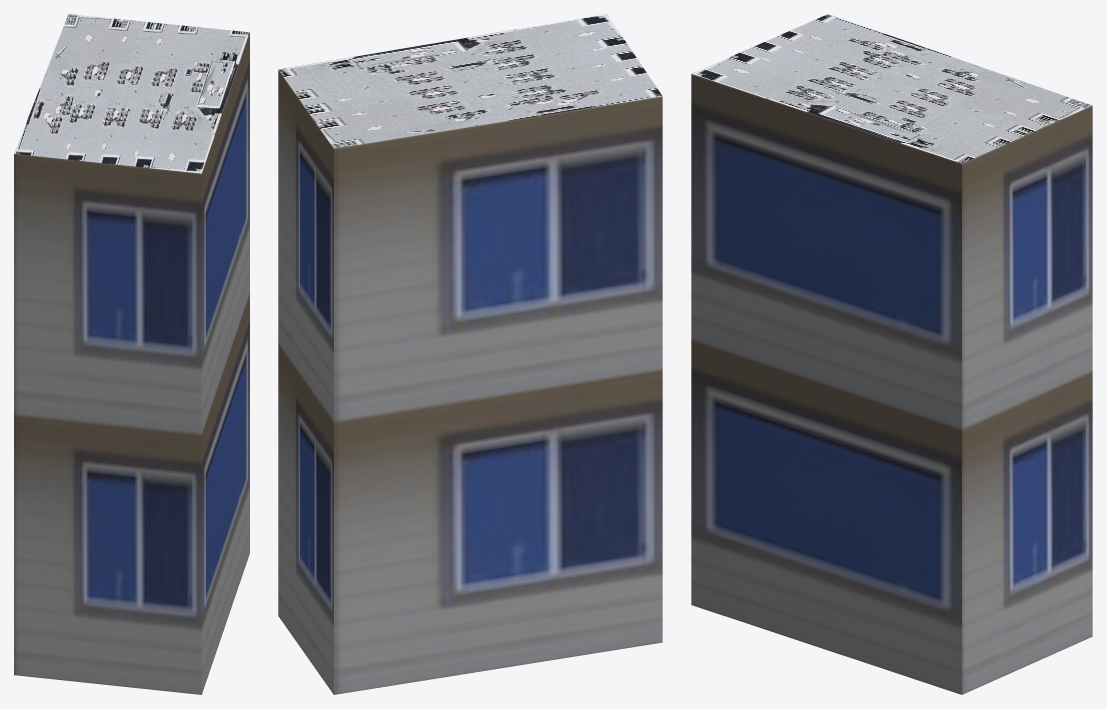
The model's file is ResTex__4826.fbx.
The picture shows the model from 3 angles, left to right: view 1: azimuth 30°, elevation 25°; view 2: azimuth 150°, elevation 25°; view 3: azimuth 270°, elevation 25°; orthographic projection. The views are drawn at different scales.
Visible parts, largest first — view 1: CityEngineMaterial_23_m, CityEngineMaterial_8_m; view 2: CityEngineMaterial_23_m, CityEngineMaterial_8_m; view 3: CityEngineMaterial_23_m, CityEngineMaterial_8_m.
Boxes of the visible parts, bbox=[...] form: CityEngineMaterial_23_m: bbox=[14, 32, 249, 694]; CityEngineMaterial_8_m: bbox=[14, 14, 249, 173]; CityEngineMaterial_23_m: bbox=[278, 70, 662, 694]; CityEngineMaterial_8_m: bbox=[278, 14, 662, 148]; CityEngineMaterial_23_m: bbox=[691, 74, 1092, 694]; CityEngineMaterial_8_m: bbox=[691, 14, 1092, 163].
Bounding box in the file's own units: 3.63 × 6 × 4.11.
2 materials, 2 textured.
